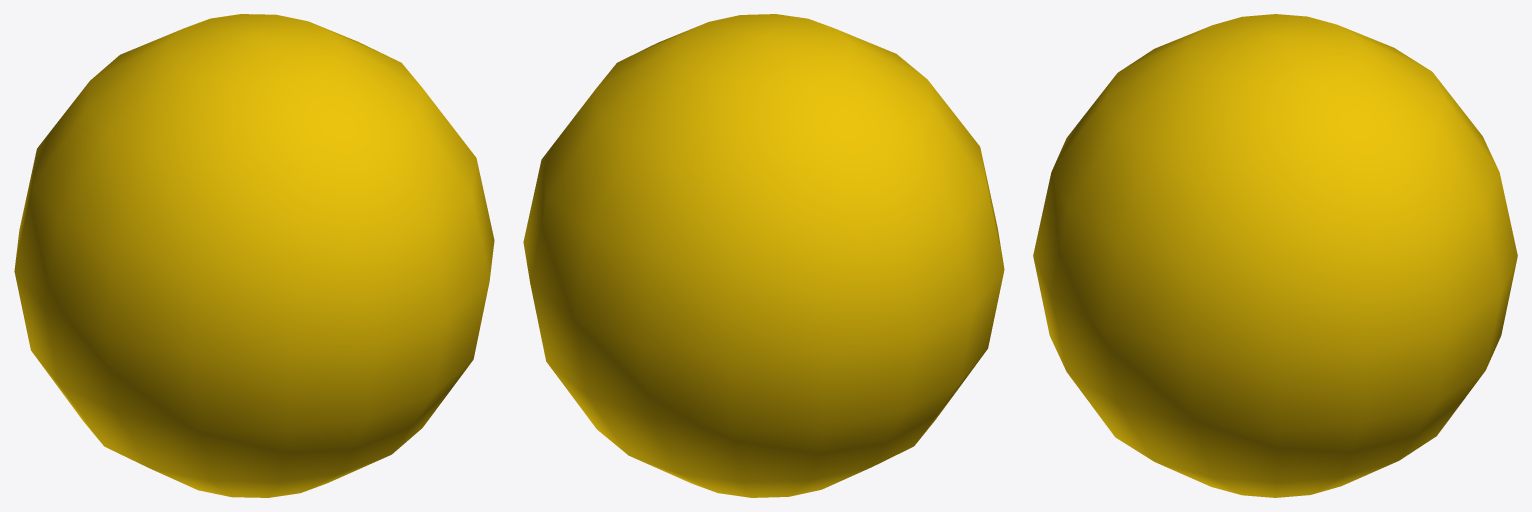
File: waiNODE.gltf
The picture shows the model from 3 angles, left to right: view 1: azimuth 30°, elevation 25°; view 2: azimuth 150°, elevation 25°; view 3: azimuth 270°, elevation 25°; orthographic projection.
Parts seen in each view (by area): view 1: waiNODE; view 2: waiNODE; view 3: waiNODE.
Part boxes in pixels (bbox=[...]): waiNODE: bbox=[14, 14, 494, 497]; waiNODE: bbox=[523, 14, 1004, 497]; waiNODE: bbox=[1033, 14, 1517, 497].
Size of the model in its own units: 0.5144 by 0.5144 by 0.5144.
